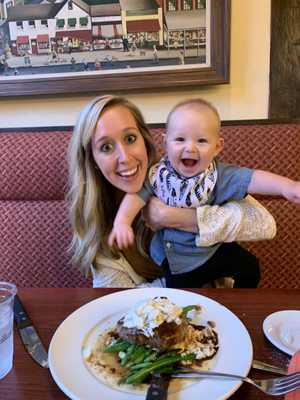burger: (157, 367, 299, 399)
pizza: (0, 281, 17, 382)
sandwich: (14, 295, 49, 368)
